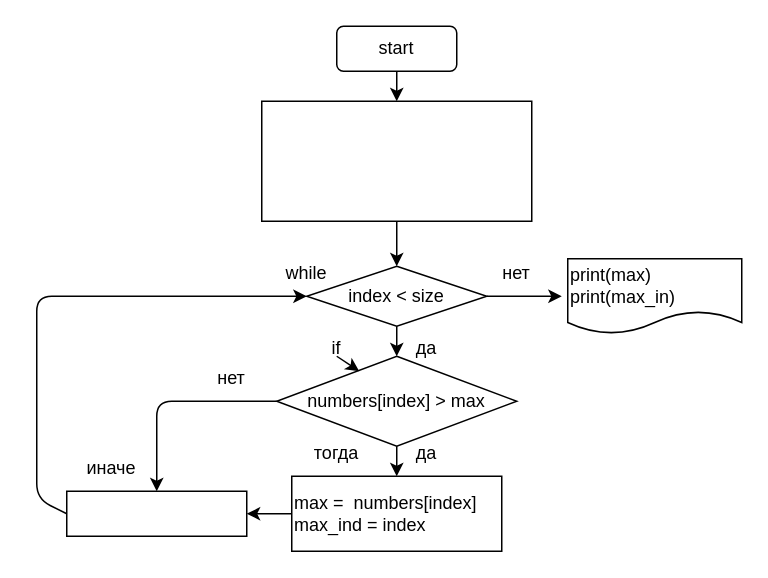
The diagram is 768 pixels wide and 578 high, and some of its shapes have lost their labels. The centre of each missing label's shape, as x and y in pixels:
index = index + 1: the point at 156,513
numbers = [1, 8, 3, 2, 6] size = 5 index = 0 max = numbers[0] min_ind = 0: the point at 396,160
